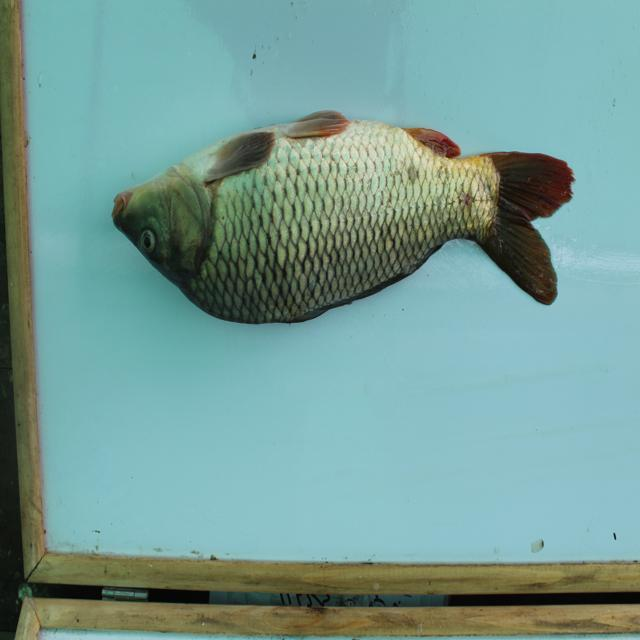CommonCarp: (113, 103, 579, 341)
